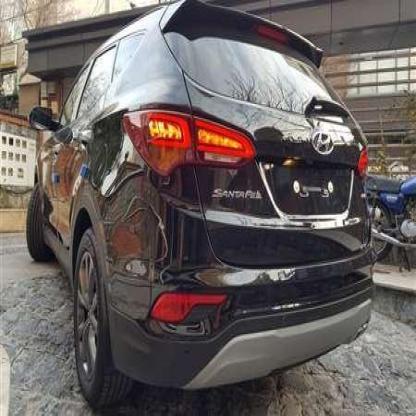Car: (26, 17, 380, 391)
